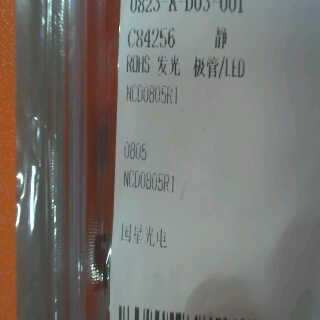LED: (154, 54, 249, 82)
